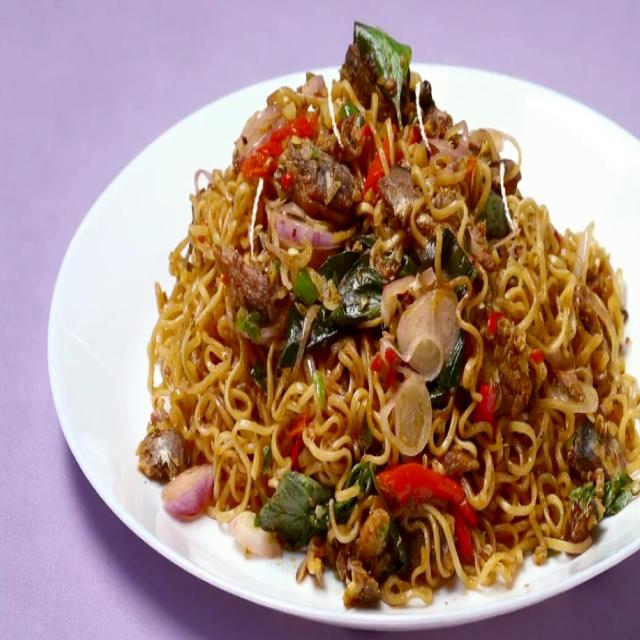carb: (164, 116, 558, 536)
meat: (283, 144, 354, 209), (480, 323, 530, 412), (143, 408, 185, 480), (388, 165, 432, 228)
stir-fried instant noodles: (120, 65, 632, 598)
vegetable: (304, 254, 384, 330), (263, 473, 337, 544), (360, 21, 410, 100)
